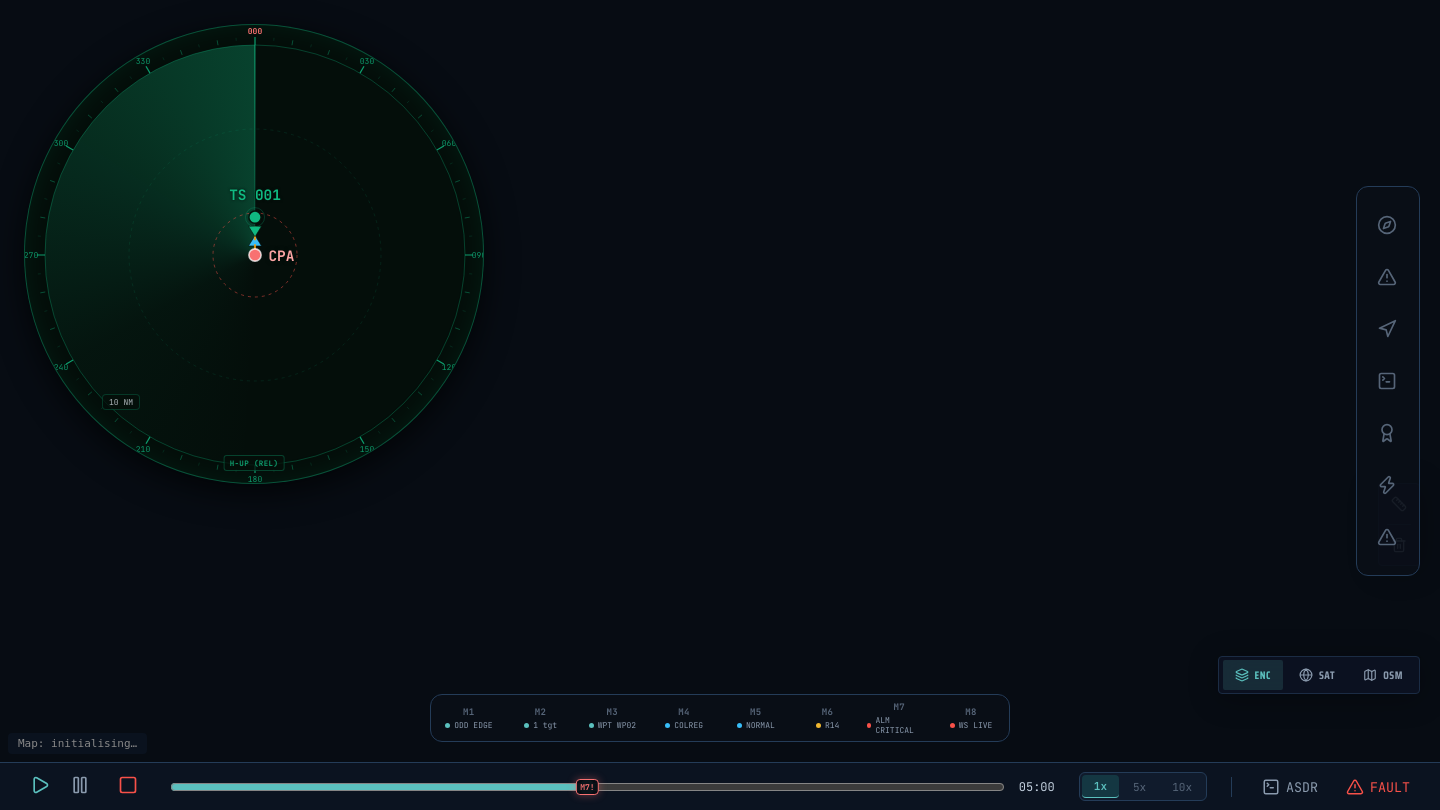
Test case: SimulationMonitor › keeps avoidance decision side panel at phase-summary level
Click the button with test id "right-tab-avoid": (1388, 329) 1366,307 -> 1410,351
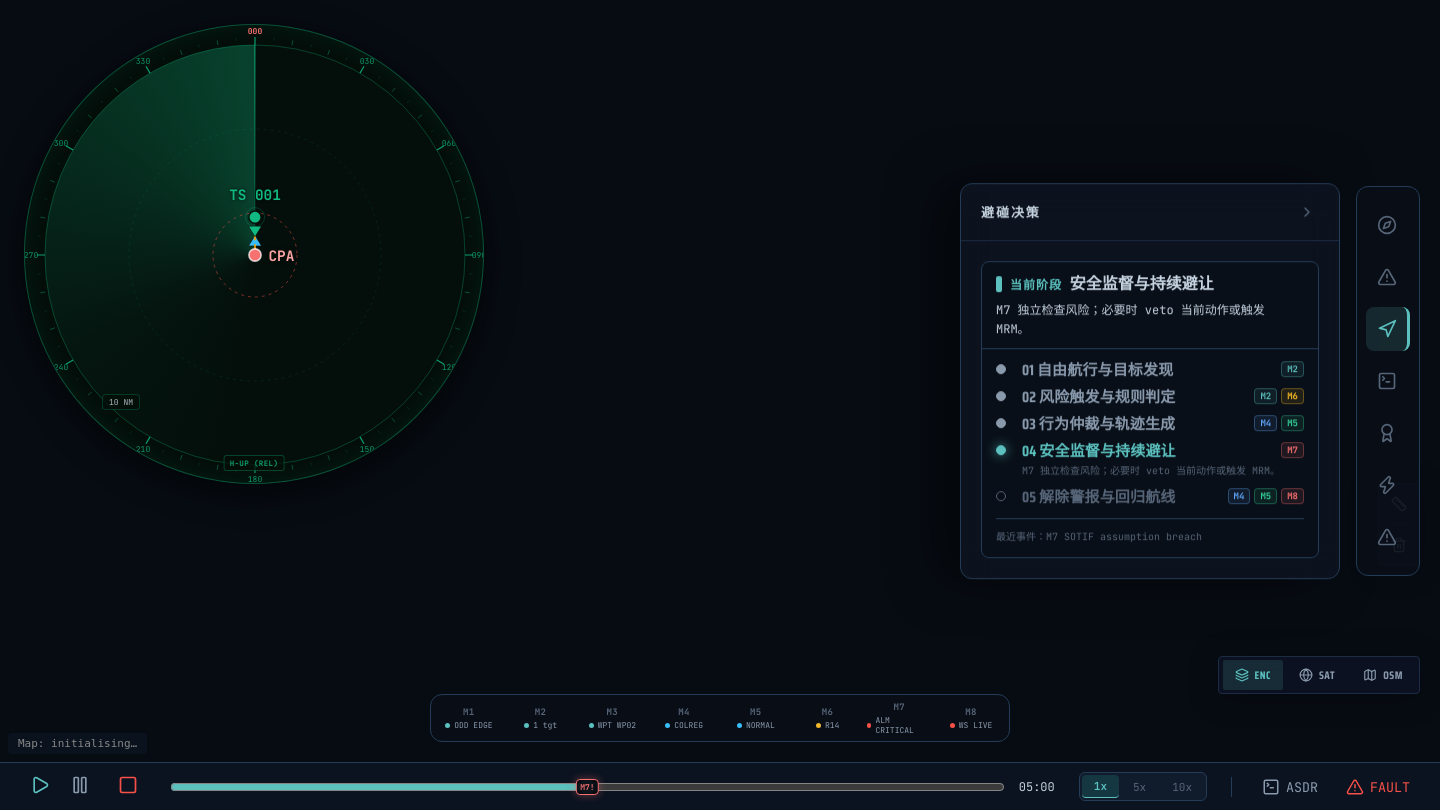
Now the element with test id "decision-process-panel" is shown, box 981,261 -> 1319,558
Now the text "当前阶段" is shown, box 1010,275 -> 1062,294
